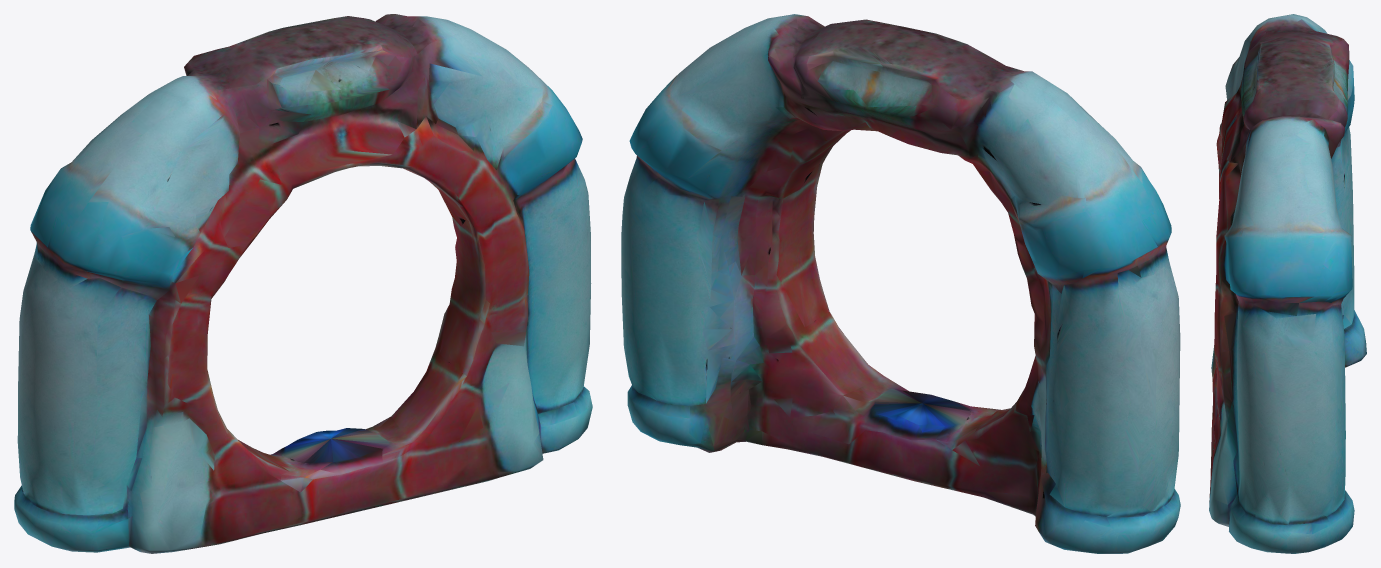
File: Portal.fbx
3 views of the same model, side by side, from view 1: azimuth 30°, elevation 25°; view 2: azimuth 150°, elevation 25°; view 3: azimuth 270°, elevation 25° (orthographic). The views are drawn at different scales.
Visible parts, largest first — view 1: high_poly; view 2: high_poly; view 3: high_poly.
Boxes of the visible parts, x1,y1,x2,y2 form: high_poly: (14, 14, 592, 553); high_poly: (621, 14, 1180, 553); high_poly: (1209, 14, 1366, 553).
Bounding box in the file's own units: 1069 × 833 × 304.
